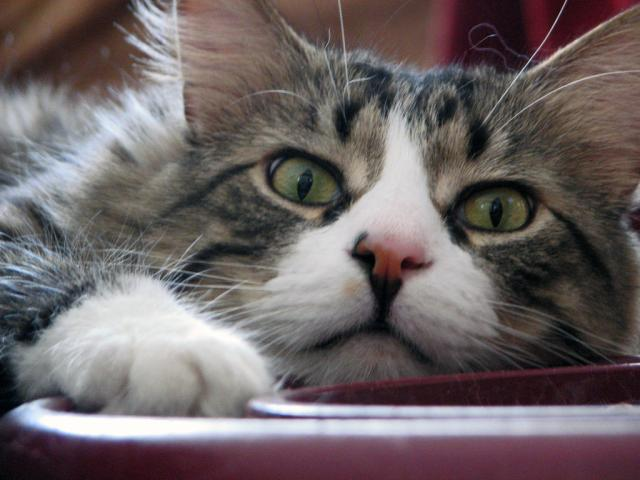Cat: (0, 0, 640, 416)
